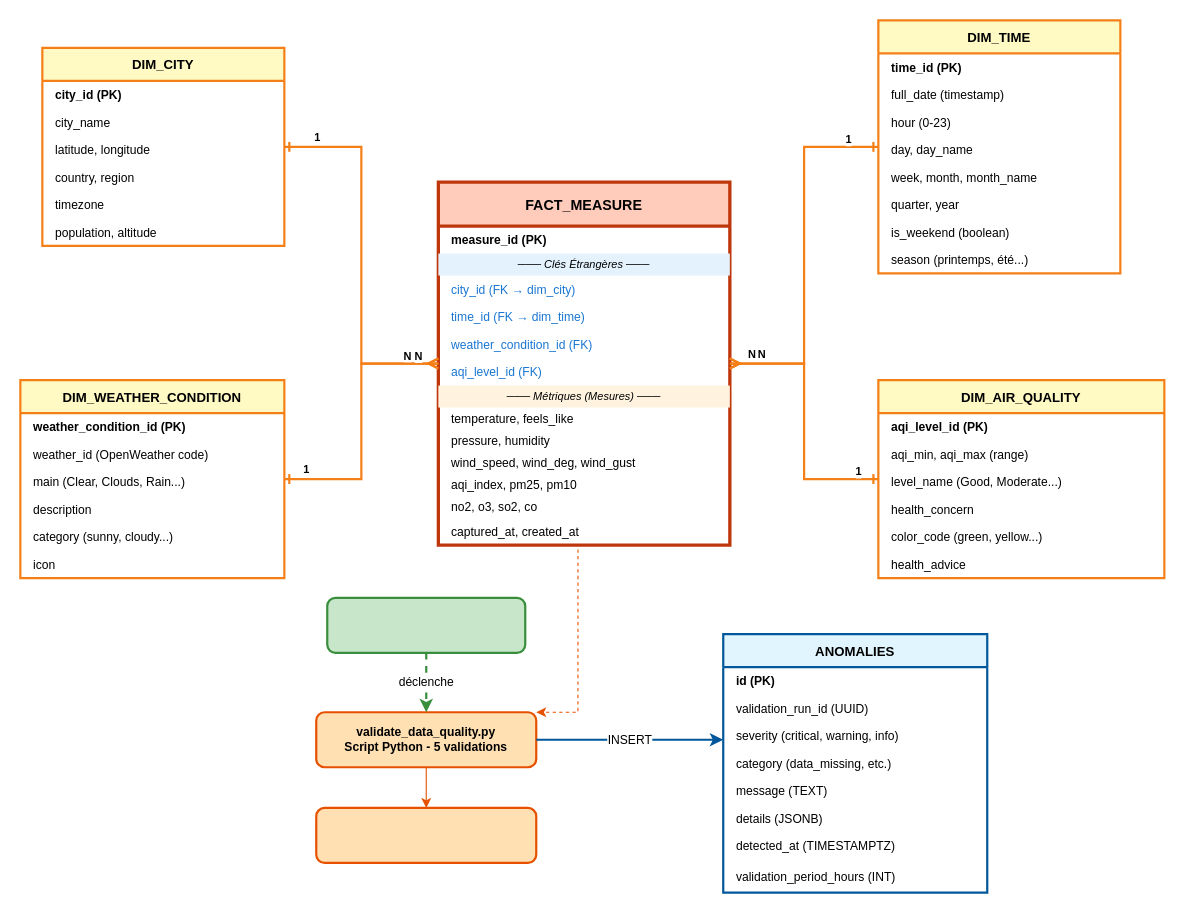
The diagram is 1184 pixels wide and 912 high, and some of its shapes have lost their labels. Each missing label, with the centre of its shape:
"cleanup_data_quality_issues.py Nettoyage automatique" belongs at pixel 426 835.
"SCALE WAY Serverless Jobs 2×/jour (0h, 12h)" belongs at pixel 426 624.
